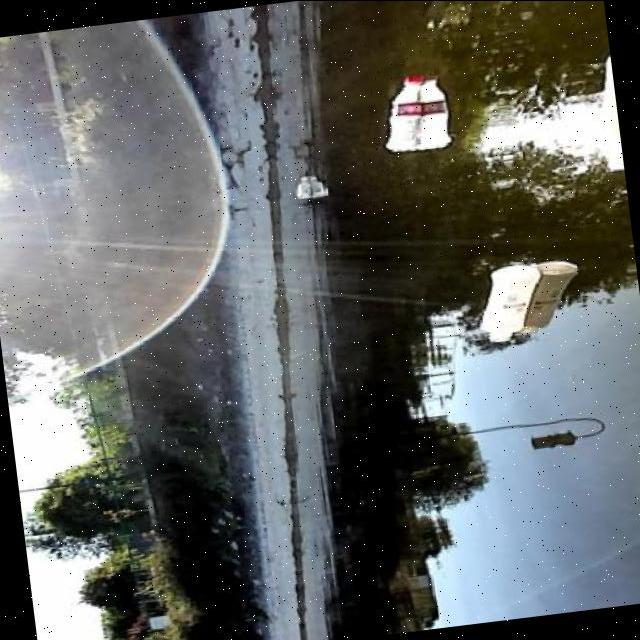Bottle: (476, 255, 548, 351), (380, 68, 434, 158)
Waste: (292, 168, 321, 206)
